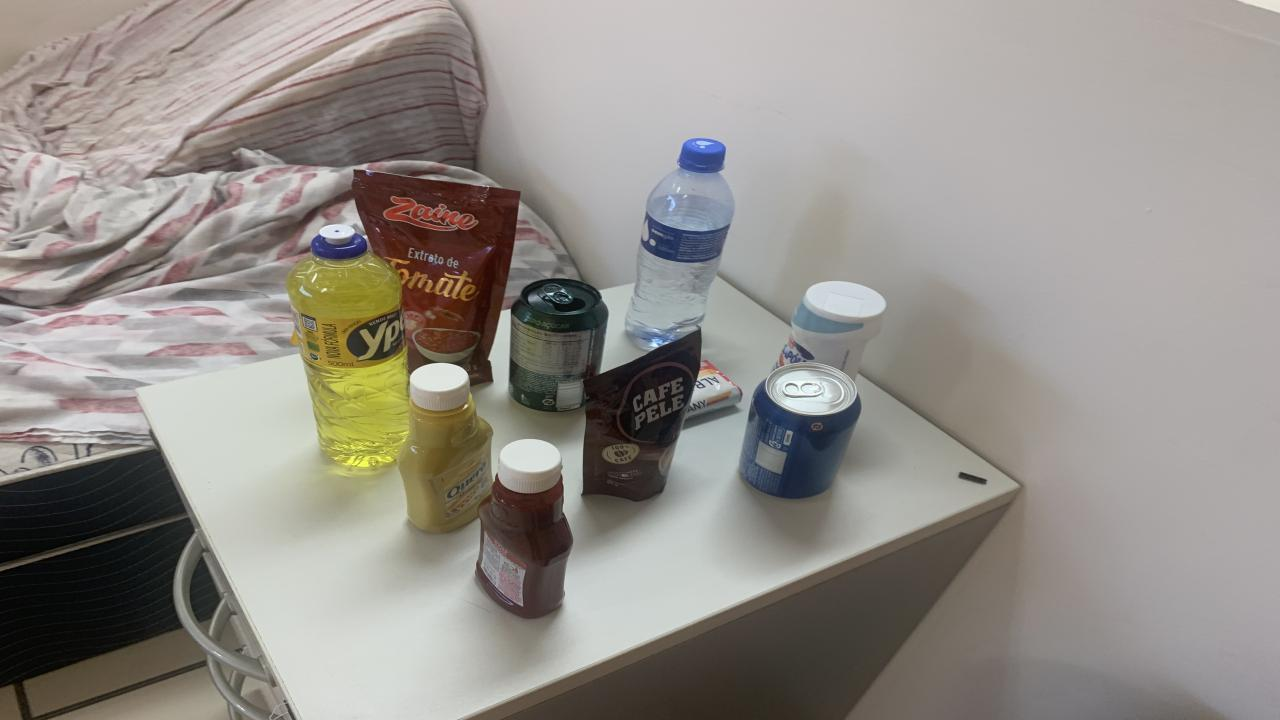Cleaner-Cleanup_Items: (778, 281, 885, 379)
Coffee-Pantry_Items: (582, 332, 702, 501)
Detergent-Cleanup_Items: (288, 225, 408, 465)
Guarana_Can-Drinks: (510, 278, 608, 411)
Ketchup-Pantry_Items: (475, 439, 572, 617)
Mustard-Pantry_Items: (398, 362, 492, 532)
Soap-Cleanup_Items: (685, 360, 742, 418)
Tomato_Sauce-Pantry_Items: (352, 171, 520, 384)
Tonic-Drinks: (740, 362, 862, 499)
Water_Bottle-Drinks: (625, 139, 735, 347)
